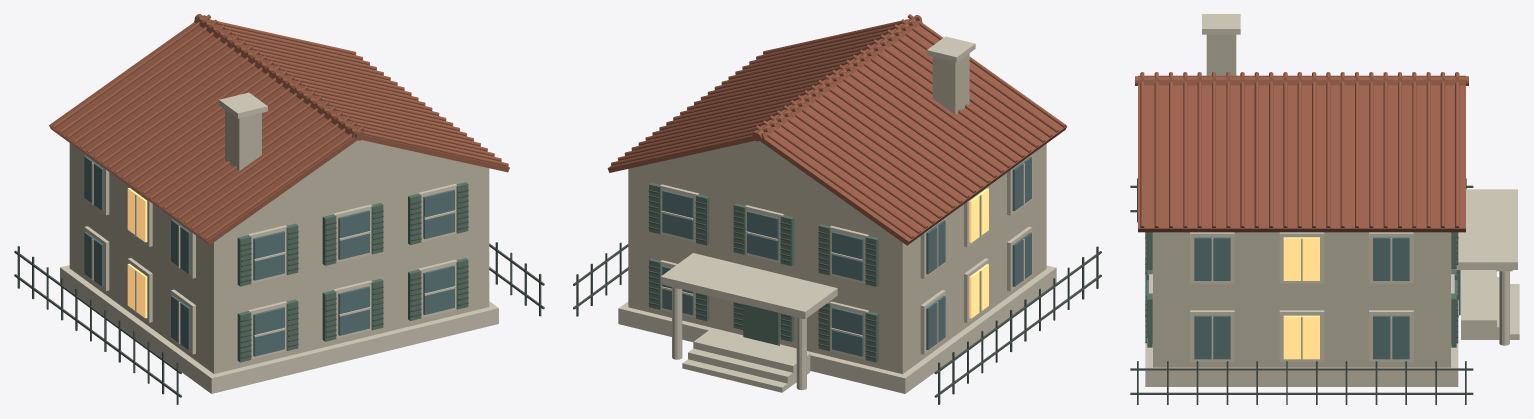
File: villa.glb
3 views of the same model, side by side, from view 1: azimuth 30°, elevation 25°; view 2: azimuth 150°, elevation 25°; view 3: azimuth 270°, elevation 25° (orthographic). The views are drawn at different scales.
Visible parts, largest first — view 1: pitched tiled roof, stucco residence, estate foundation, estate window, louvered shutter, shutter slat, side glazing.002; view 2: pitched tiled roof, stucco residence, estate foundation, estate window, louvered shutter, shutter slat, side glazing.002; view 3: pitched tiled roof, stucco residence, estate foundation, estate window, shutter slat, side glazing.002, louvered shutter.
Boxes of the visible parts, x1=… form: pitched tiled roof: x1=49, y1=14, x2=509, y2=245; stucco residence: x1=69, y1=109, x2=489, y2=373; estate foundation: x1=60, y1=92, x2=498, y2=393; estate window: x1=84, y1=156, x2=454, y2=356; louvered shutter: x1=237, y1=182, x2=468, y2=362; shutter slat: x1=14, y1=189, x2=544, y2=404; side glazing.002: x1=127, y1=188, x2=147, y2=318; pitched tiled roof: x1=607, y1=14, x2=1066, y2=245; stucco residence: x1=628, y1=53, x2=1046, y2=373; estate foundation: x1=618, y1=36, x2=1056, y2=393; estate window: x1=662, y1=156, x2=1031, y2=356; louvered shutter: x1=649, y1=182, x2=878, y2=362; shutter slat: x1=573, y1=190, x2=1101, y2=404; side glazing.002: x1=969, y1=188, x2=988, y2=318; pitched tiled roof: x1=1135, y1=72, x2=1468, y2=232; stucco residence: x1=1153, y1=34, x2=1450, y2=367; estate foundation: x1=1145, y1=14, x2=1519, y2=386; estate window: x1=1146, y1=232, x2=1457, y2=359; shutter slat: x1=1130, y1=178, x2=1473, y2=404; side glazing.002: x1=1283, y1=237, x2=1319, y2=359; louvered shutter: x1=1147, y1=232, x2=1460, y2=347.
Size of the model in its own units: 14.57 by 9.45 by 13.05.
